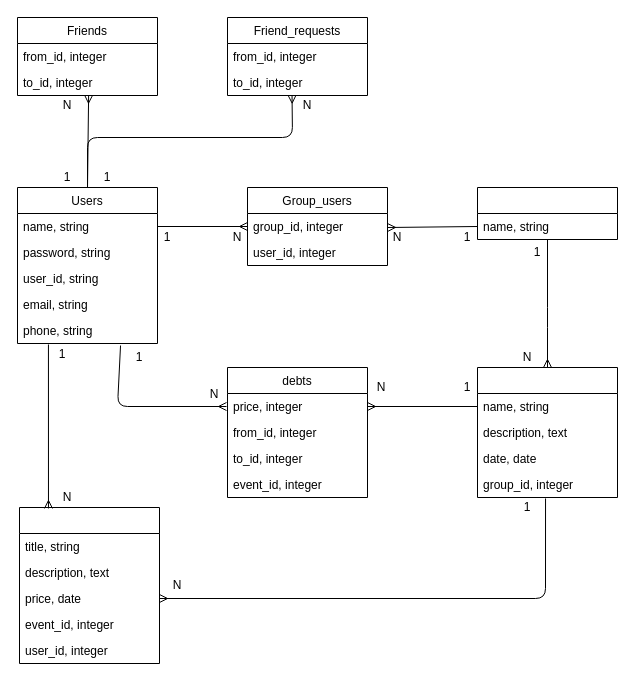
This 635x684 diagram has some shape labels left out. Each missing label, with the box of its shape:
Events: (476, 366, 618, 498)
Expences: (18, 506, 160, 664)
Groups: (476, 186, 618, 240)
